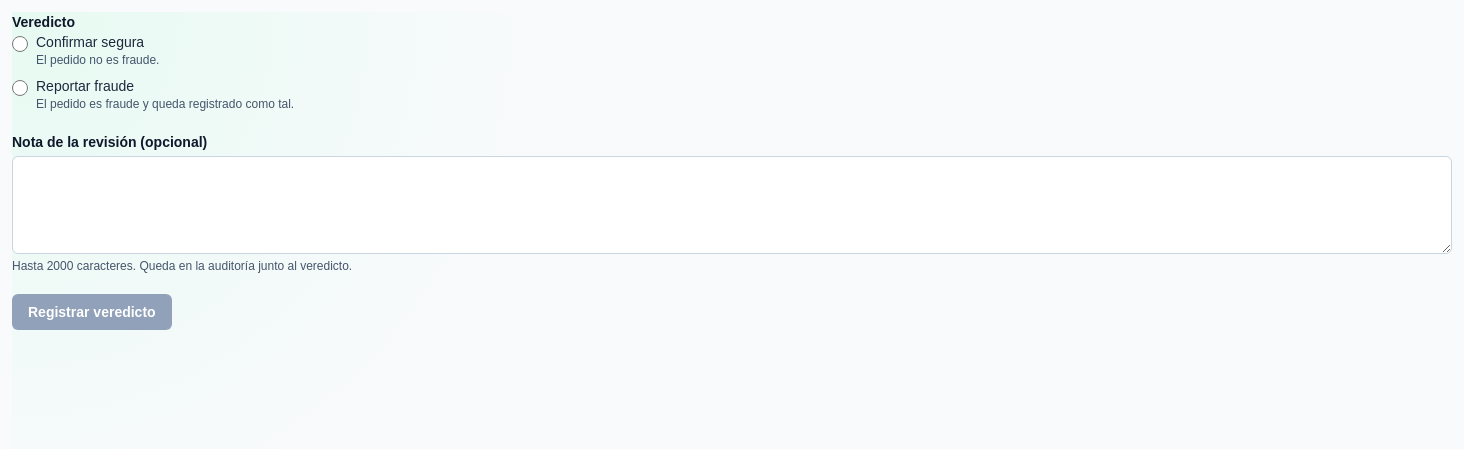
Scenario: formulario de revisión › un veredicto aplicado se anuncia sin interrumpir
The width and height of the screenshot is (1464, 449).
Click the radio button labelled "Confirmar segura El pedido no es fraude.": (20, 44) x1=12 y1=36 x2=28 y2=52
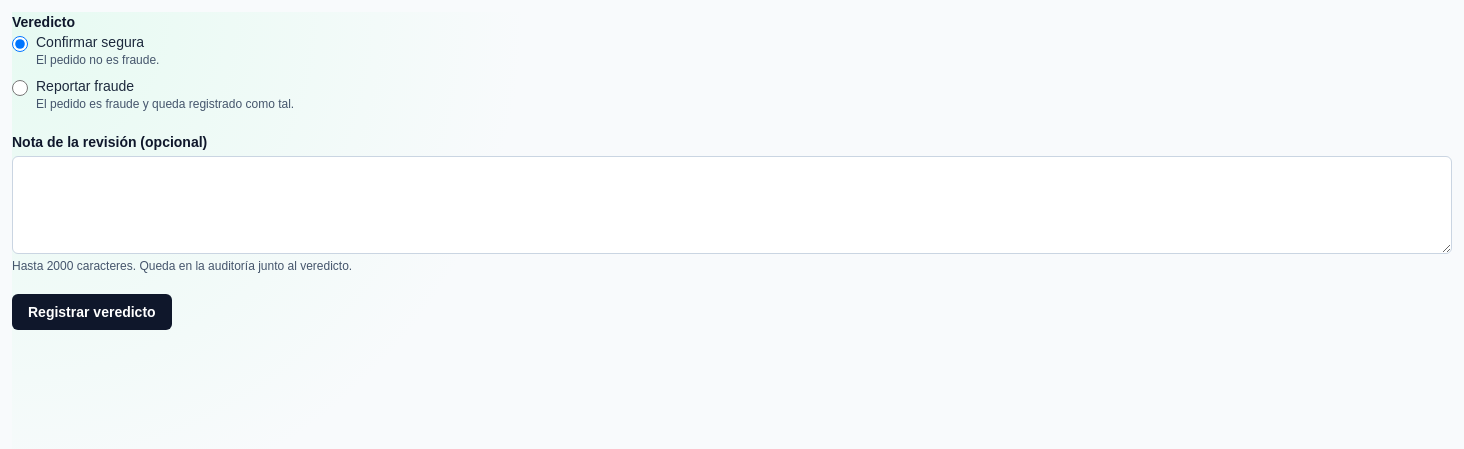
Submit the form named "Registrar veredicto"
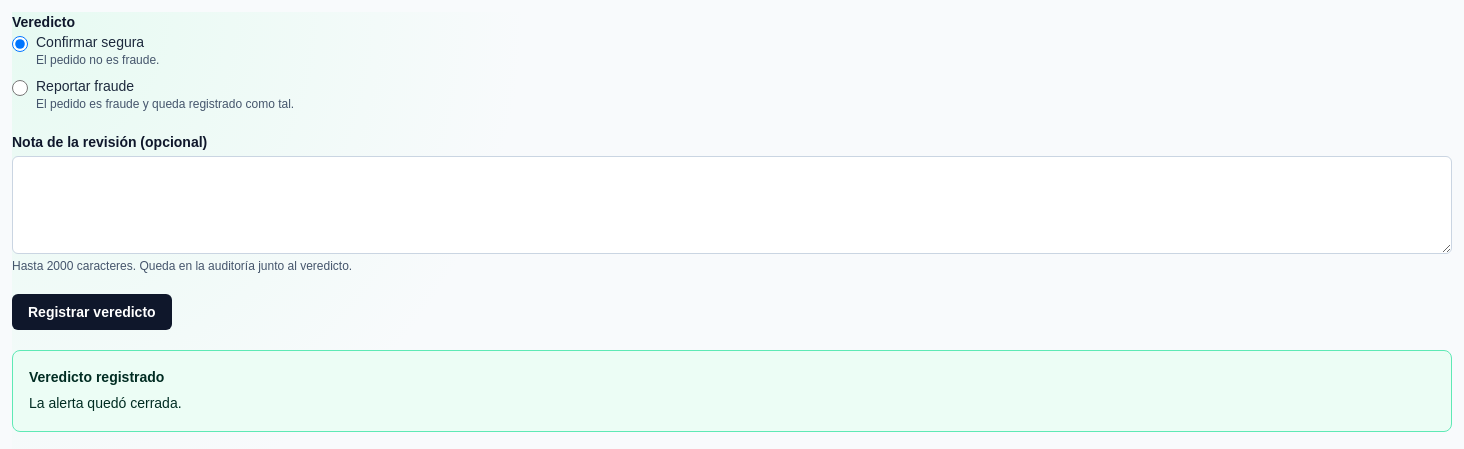
Check: the message shows "Veredicto registrado", box x1=29 y1=369 x2=164 y2=385
